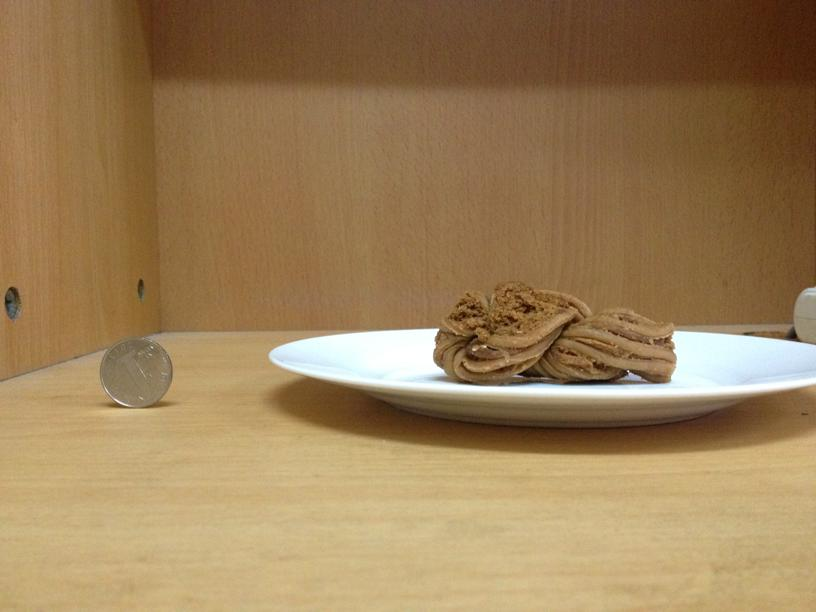coin: (97, 336, 171, 407)
fired_dough_twist: (427, 286, 678, 382)
